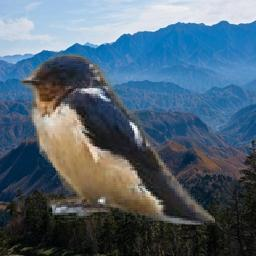Swallow: (19, 53, 215, 226)
